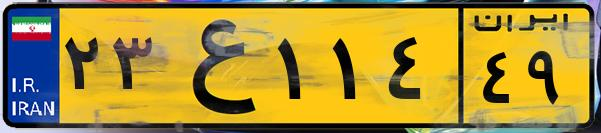1: (270, 28, 330, 110), (330, 28, 385, 110)
2: (57, 26, 110, 100)
3: (110, 28, 158, 98)
4: (385, 28, 445, 110), (475, 38, 525, 113)
9: (525, 38, 570, 115)
ع: (158, 12, 270, 120)
